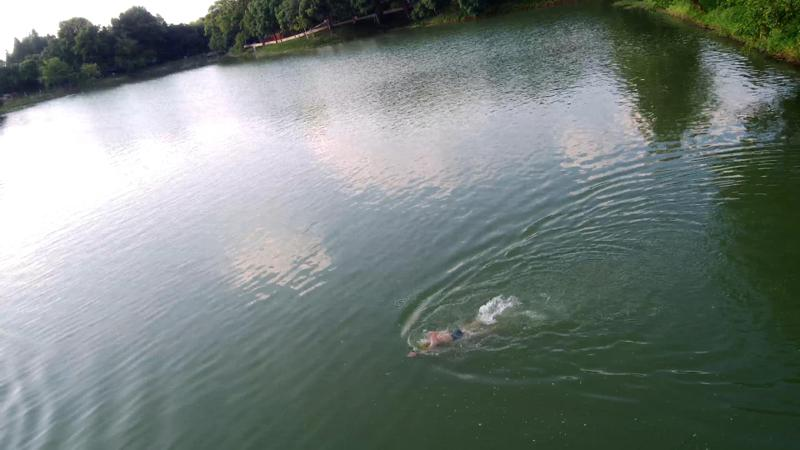swimmers: (405, 315, 482, 358)
